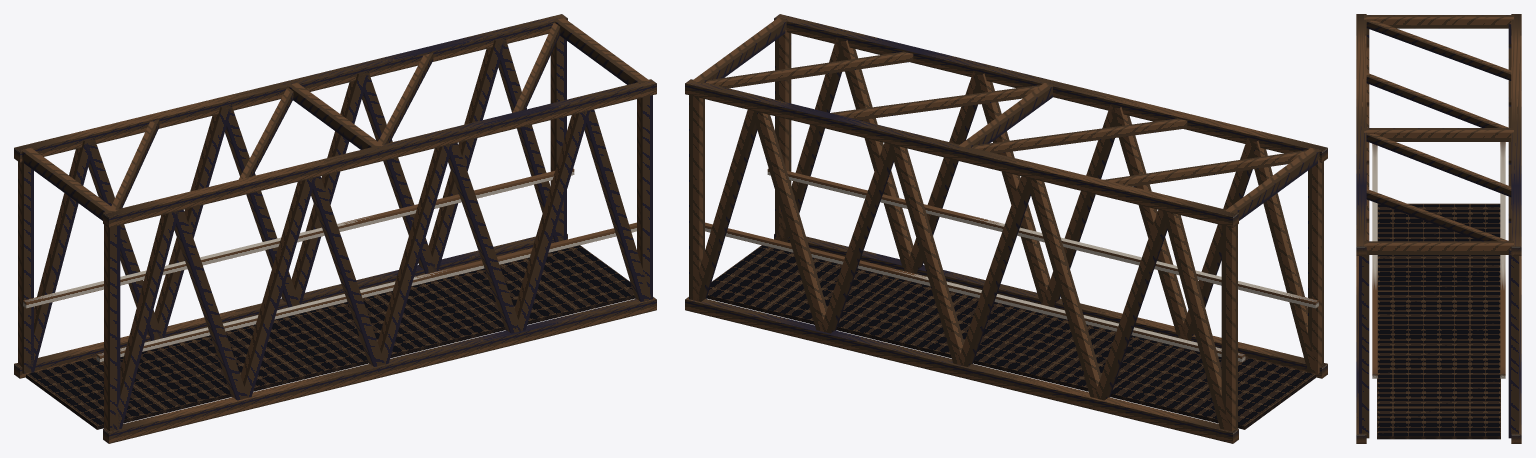
Rendered from PUE-03_Puente_de_celosia.gltf.
3 renders of one model, left to right at view 1: azimuth 30°, elevation 25°; view 2: azimuth 150°, elevation 25°; view 3: azimuth 270°, elevation 25°, orthographic. The views are drawn at different scales.
Visible parts, largest first — view 1: PUE-03_Puente_de_celosia-col; view 2: PUE-03_Puente_de_celosia-col; view 3: PUE-03_Puente_de_celosia-col.
Part boxes in pixels (box(x1,y1,x2,y2)): PUE-03_Puente_de_celosia-col: box(14, 14, 656, 443); PUE-03_Puente_de_celosia-col: box(685, 14, 1327, 443); PUE-03_Puente_de_celosia-col: box(1356, 14, 1521, 443).
Size of the model in its own units: 8 by 3.16 by 2.4.
Materials: 1 (1 with a texture image).
